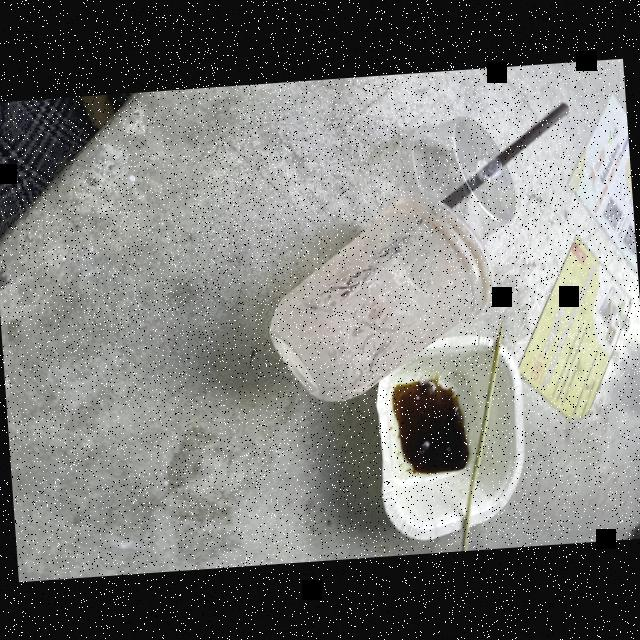cardboard_bowl: (368, 322, 533, 546)
plastic_cup: (258, 189, 501, 407)
plastic_cup_lid: (404, 96, 522, 258)
stick: (438, 315, 525, 551)
straw: (433, 102, 573, 206)
